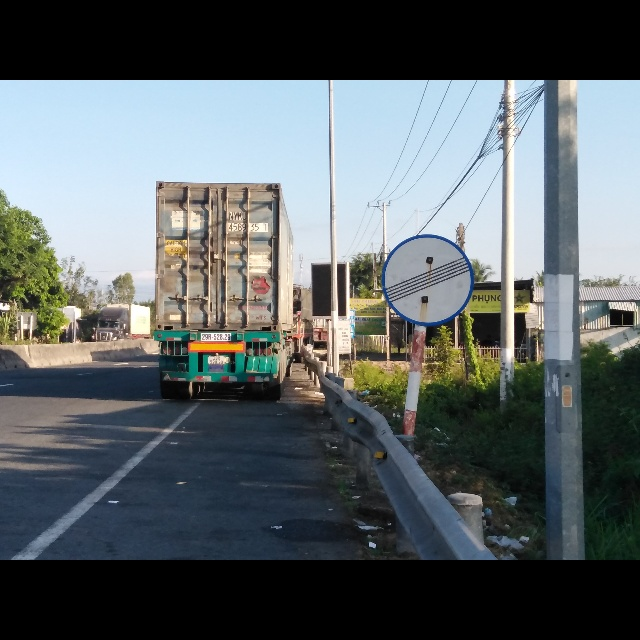Hết tất cả các lệnh cấm: (378, 232, 477, 327)
